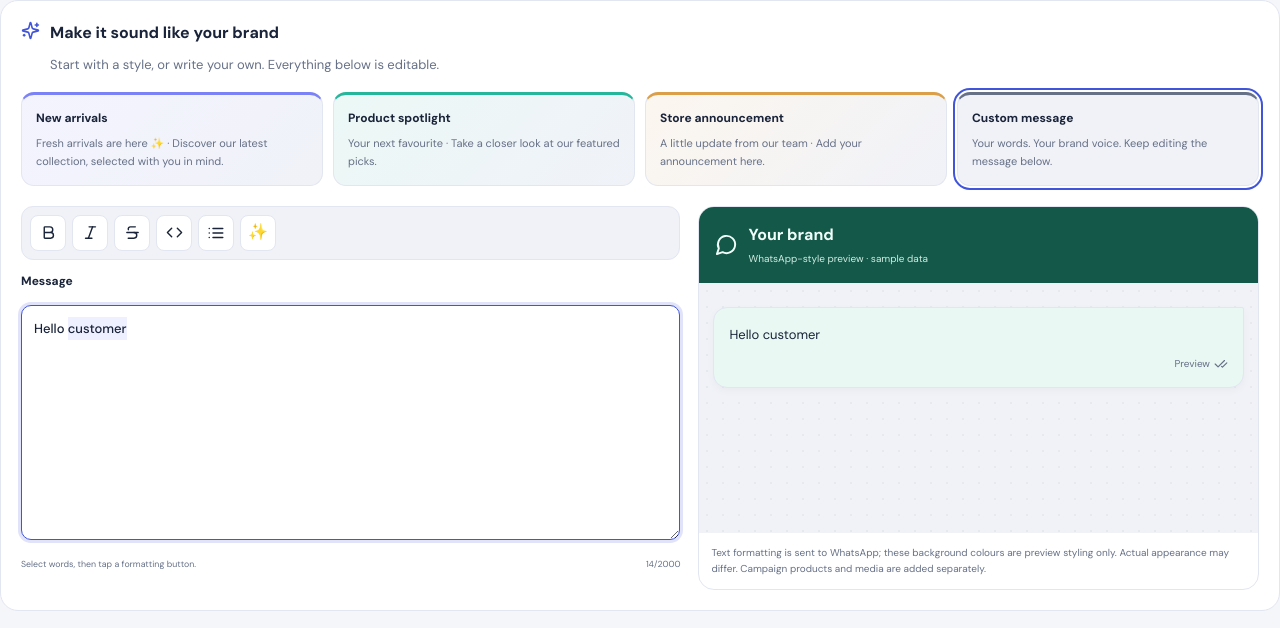
Scenario: formats selected text and renders safe bold preview
Click the button named "Bold": (48,233) [30,215,66,251]
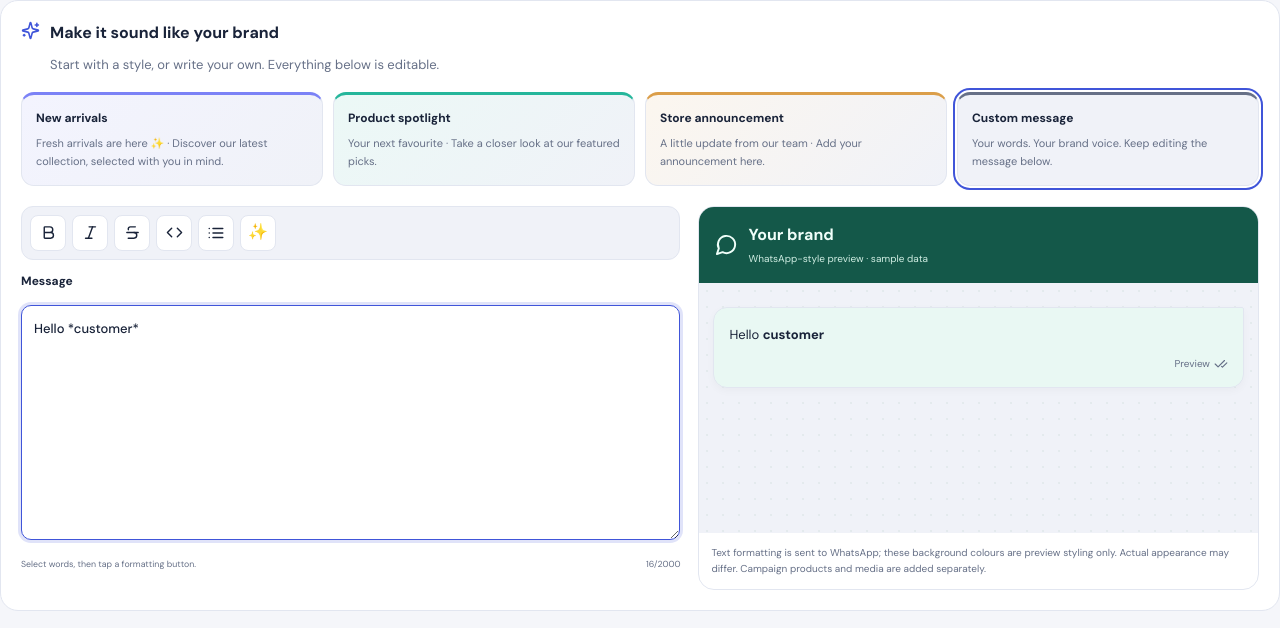
Result: the text box labelled "Message" holds "Hello *customer*" at [21,305,680,540]
